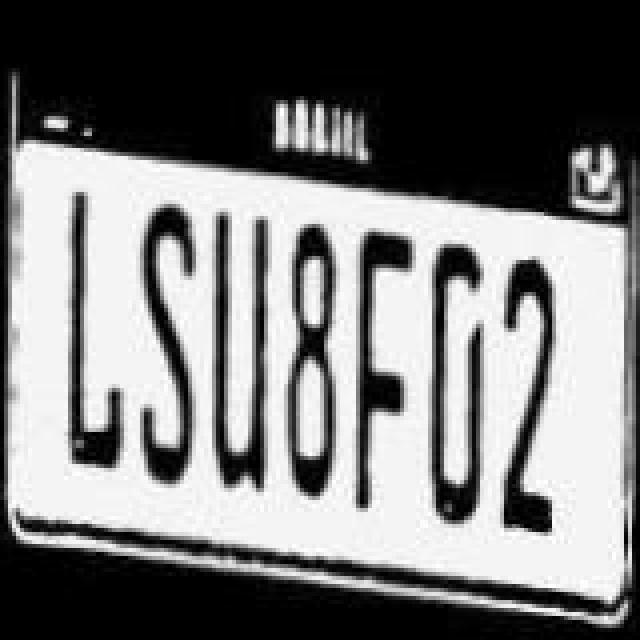2: (498, 258, 566, 534)
8: (286, 216, 342, 500)
D: (428, 240, 492, 528)
F: (348, 232, 416, 512)
L: (54, 186, 134, 478)
S: (136, 202, 196, 490)
U: (206, 206, 278, 498)
